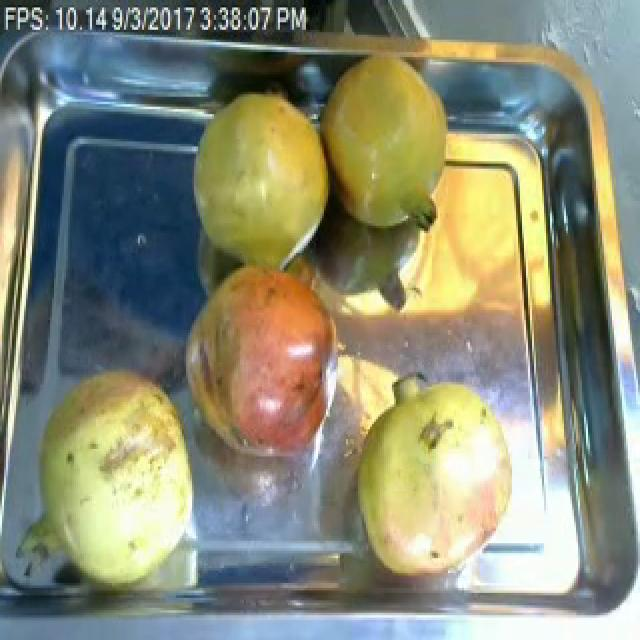fruit: (24, 355, 208, 600), (340, 360, 526, 595), (180, 248, 352, 469), (310, 47, 462, 248), (184, 82, 336, 283)
